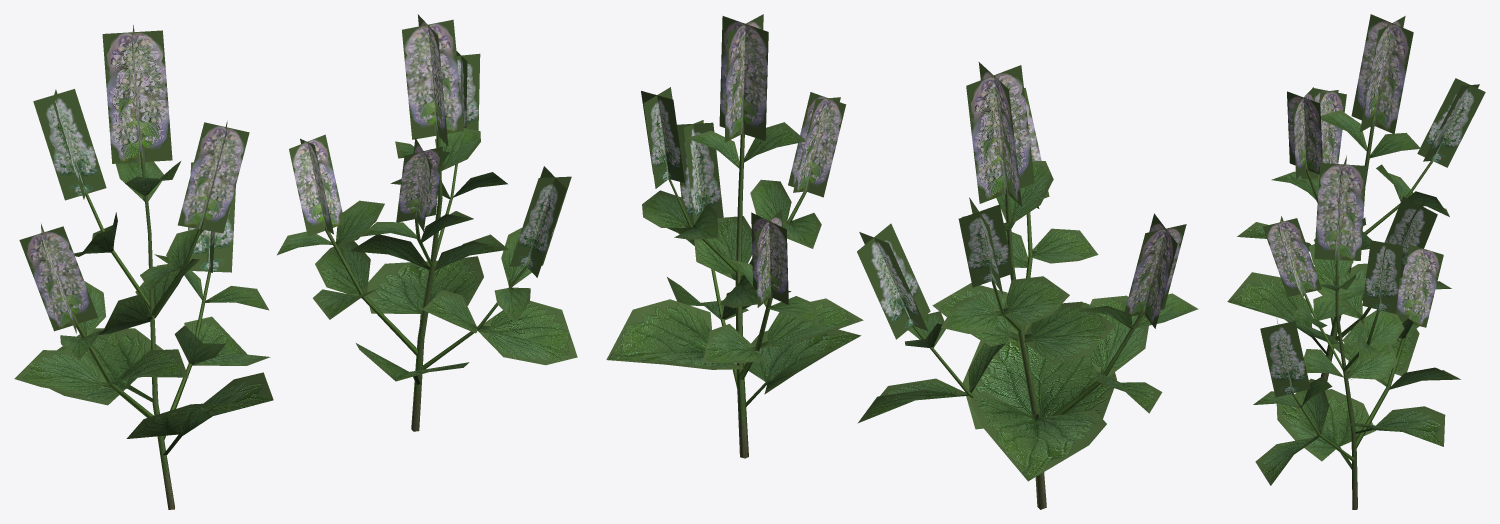
File: Nepeta cataria.FBX
The picture shows the model from 3 angles, left to right: view 1: azimuth 30°, elevation 25°; view 2: azimuth 150°, elevation 25°; view 3: azimuth 270°, elevation 25°; orthographic projection. The views are drawn at different scales.
Visible parts, largest first — view 1: Nepeta cataria_1, Nepeta cataria_002; view 2: Nepeta cataria_1, Nepeta cataria_002; view 3: Nepeta cataria_002, Nepeta cataria_1.
Boxes of the visible parts, bbox=[...] form: Nepeta cataria_1: bbox=[14, 25, 273, 509]; Nepeta cataria_002: bbox=[277, 14, 577, 431]; Nepeta cataria_1: bbox=[857, 62, 1198, 509]; Nepeta cataria_002: bbox=[606, 14, 863, 458]; Nepeta cataria_002: bbox=[1253, 155, 1460, 509]; Nepeta cataria_1: bbox=[1227, 14, 1485, 381].
Bounding box in the file's own units: 139 × 116 × 71.03.
